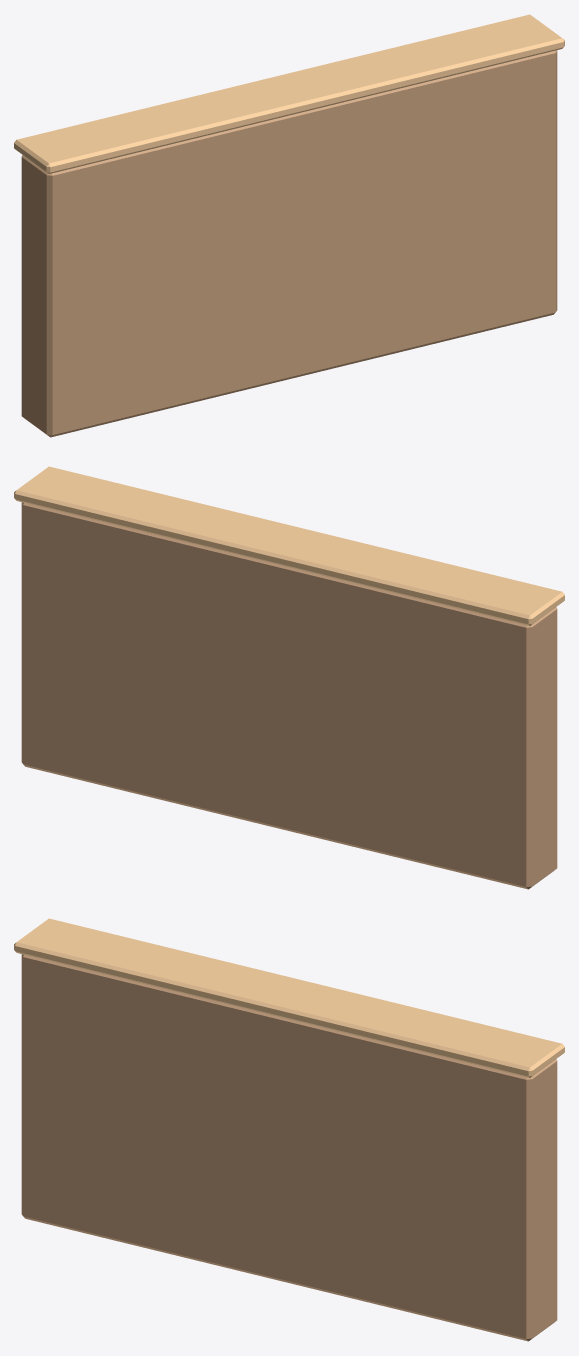
Rendered from retaining_wall2.glb.
3 views of the same model, one above another, from view 1: azimuth 30°, elevation 25°; view 2: azimuth 150°, elevation 25°; view 3: azimuth 330°, elevation 25° (orthographic).
Visible parts, largest first — view 1: retaining_wall, retaining_wall_cap; view 2: retaining_wall, retaining_wall_cap; view 3: retaining_wall, retaining_wall_cap.
Part boxes in pixels (x1=…): retaining_wall: x1=21, y1=50, x2=557, y2=437; retaining_wall_cap: x1=14, y1=14, x2=564, y2=173; retaining_wall: x1=21, y1=502, x2=557, y2=889; retaining_wall_cap: x1=14, y1=466, x2=564, y2=625; retaining_wall: x1=21, y1=954, x2=557, y2=1341; retaining_wall_cap: x1=14, y1=918, x2=564, y2=1077.
Bounding box in the file's own units: 4.06 × 2.08 × 0.48.
